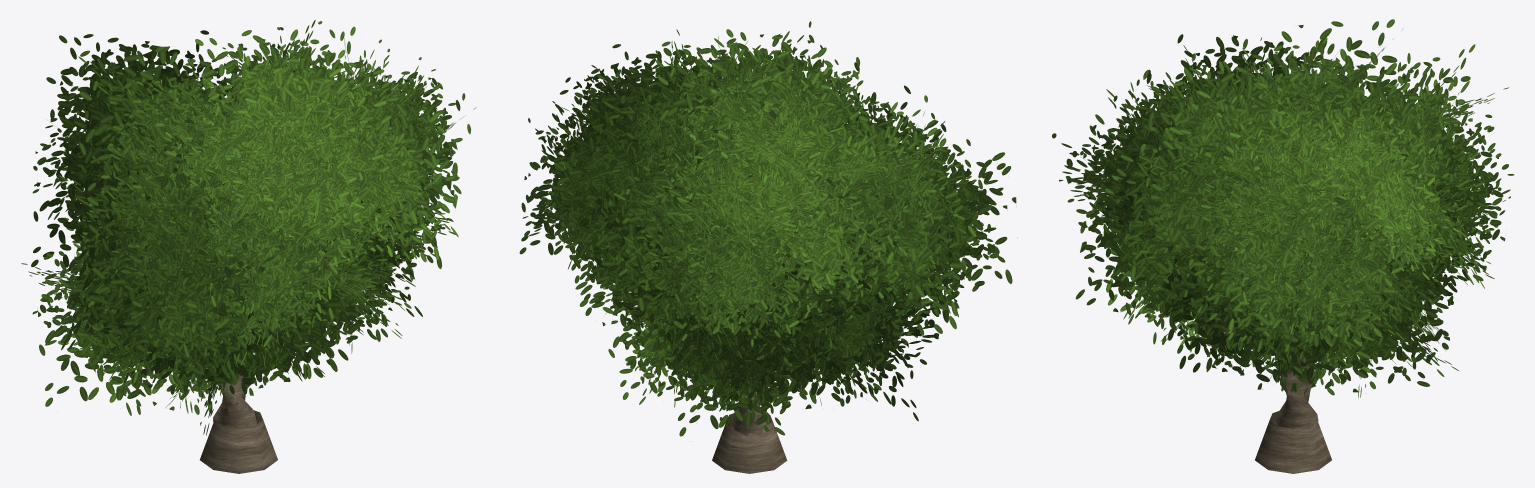
Rendered from tree_chenar_b.glb.
The picture shows the model from 3 angles, left to right: view 1: azimuth 30°, elevation 25°; view 2: azimuth 150°, elevation 25°; view 3: azimuth 270°, elevation 25°; orthographic projection. The views are drawn at different scales.
Parts seen in each view (by area): view 1: tree_chenar_b; view 2: tree_chenar_b; view 3: tree_chenar_b.
Boxes of the visible parts, left/top/right/bottom form: tree_chenar_b: left=21, top=20, right=476, bottom=473; tree_chenar_b: left=519, top=21, right=1016, bottom=473; tree_chenar_b: left=1052, top=19, right=1514, bottom=473.
Bounding box in the file's own units: 6.95 × 6.3 × 6.59.
2 materials, 2 textured.
